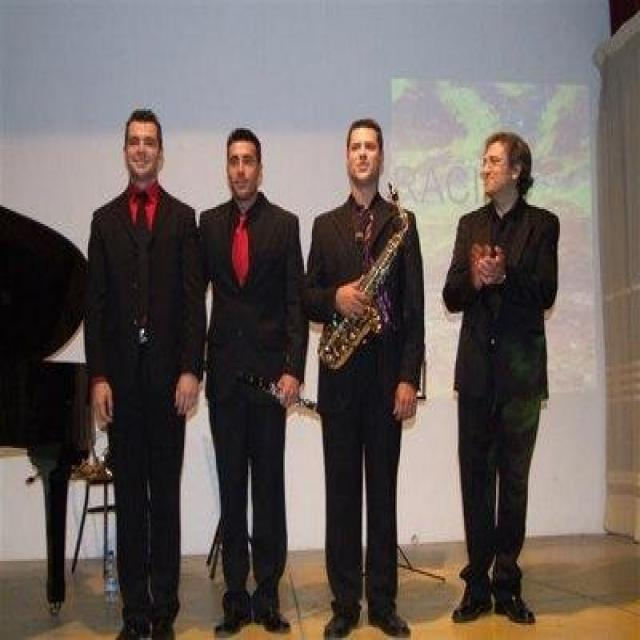clarinet: (225, 366, 328, 426)
saxophone: (315, 182, 422, 372)
